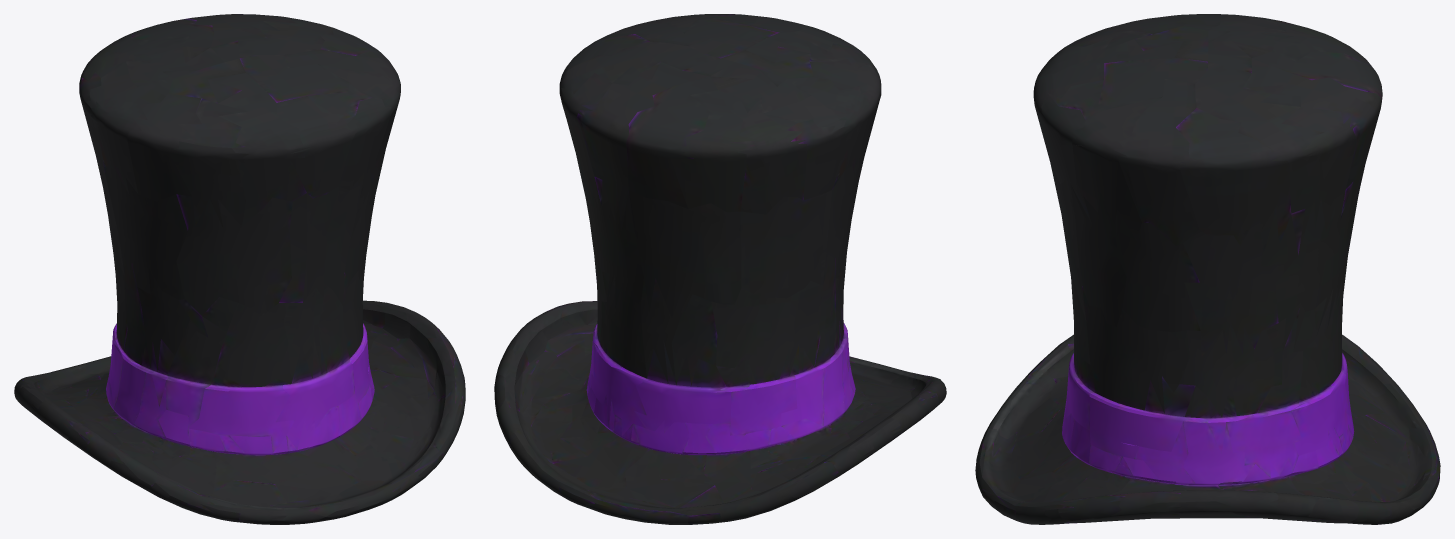
File: top_hat.glb
The picture shows the model from 3 angles, left to right: view 1: azimuth 30°, elevation 25°; view 2: azimuth 150°, elevation 25°; view 3: azimuth 270°, elevation 25°; orthographic projection. The views are drawn at different scales.
Bounding box in the file's own units: 1.9 × 1.81 × 1.83.
1 material, 1 textured.
